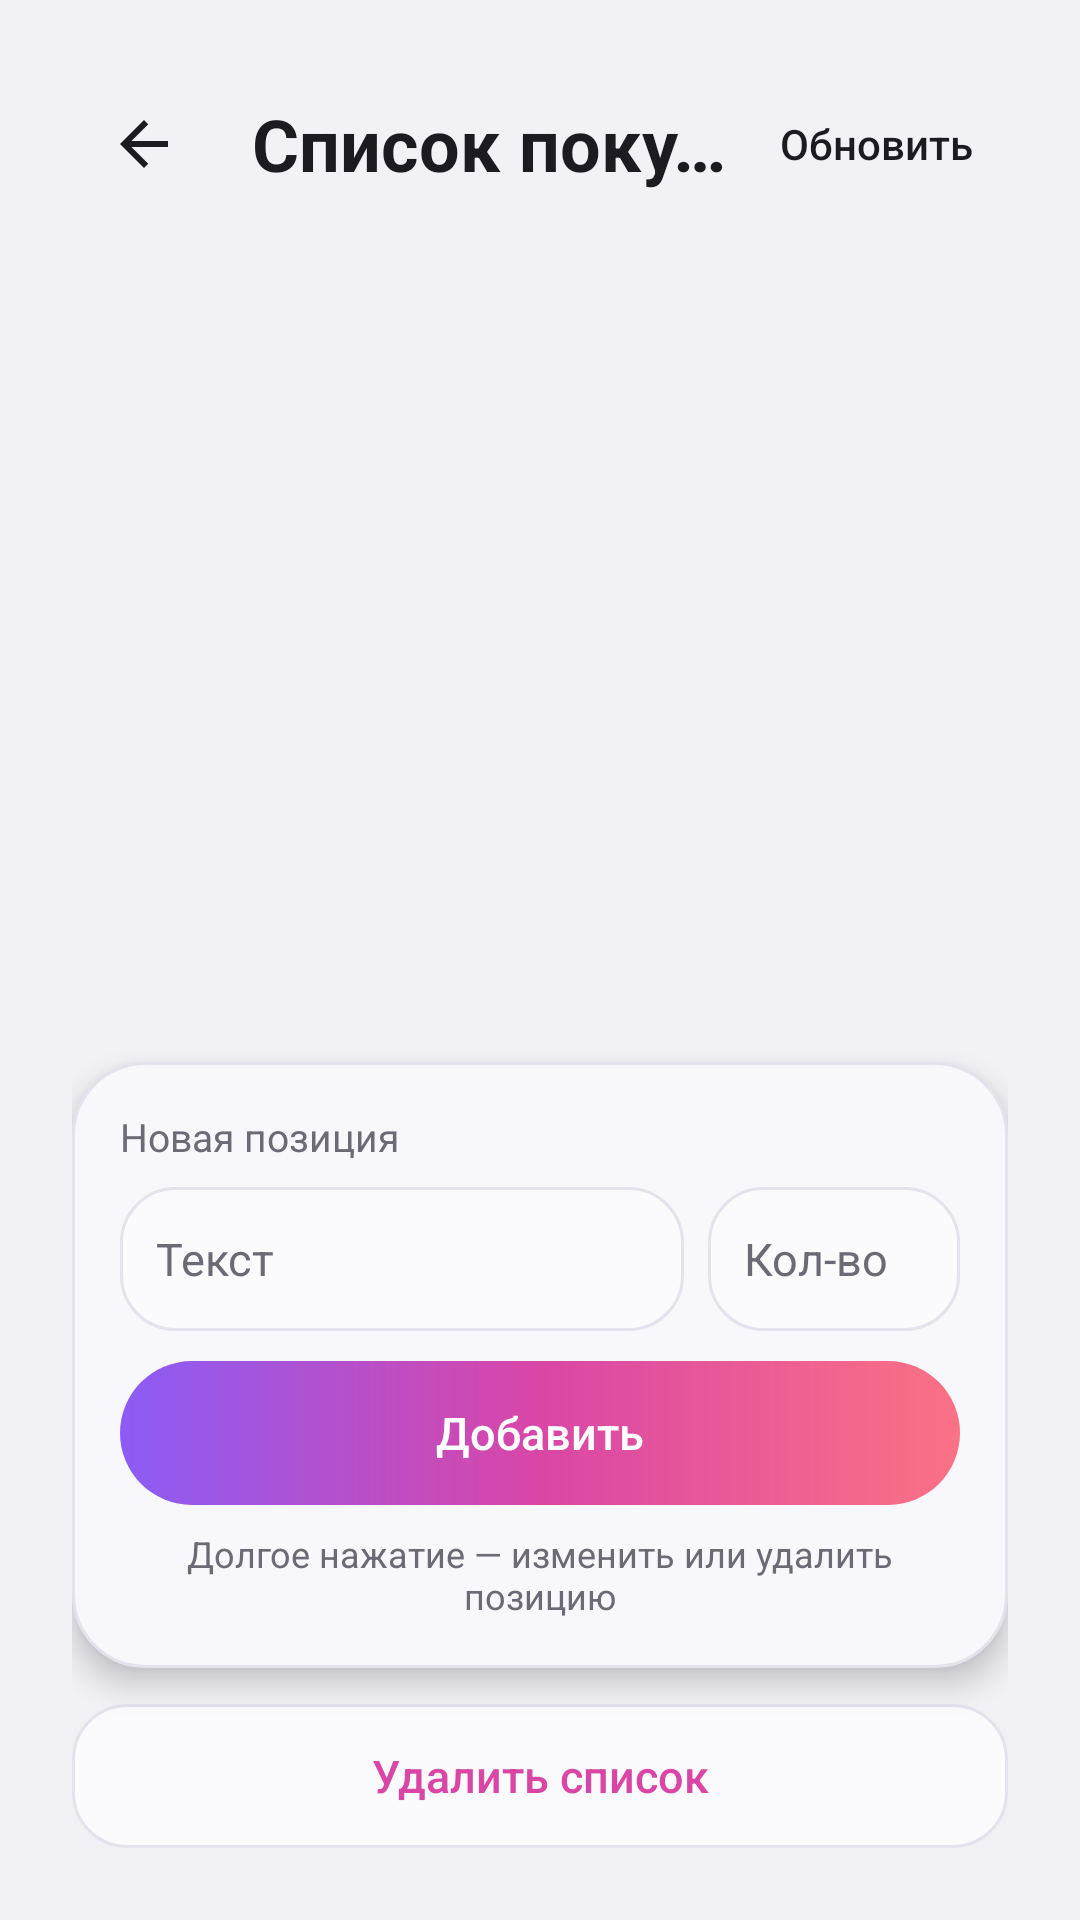

Icon bounding boxes for this 1080*1920 phone screenshot, format (x1, y1, x2, y2):
Назад: (120, 120, 168, 168)
